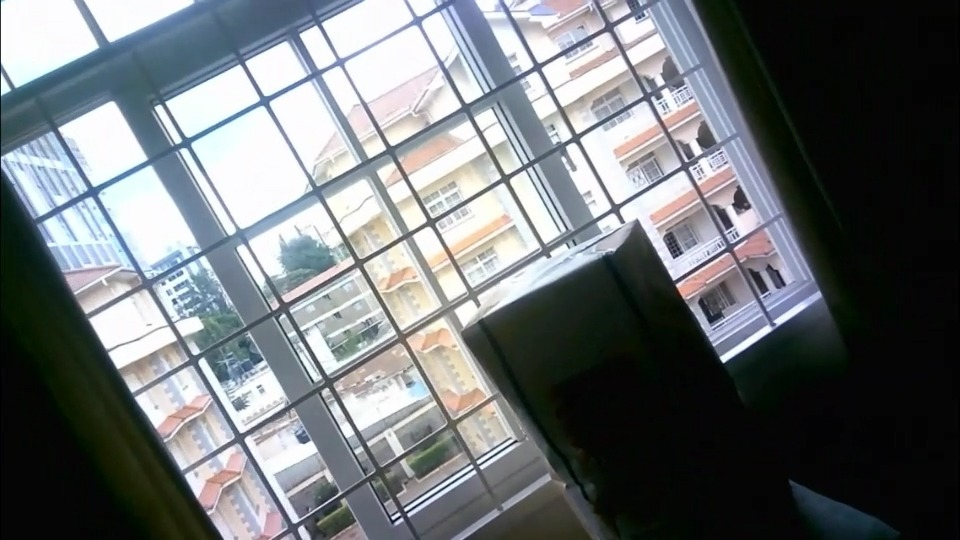wheat_flour_blue_label: (466, 220, 714, 540)
